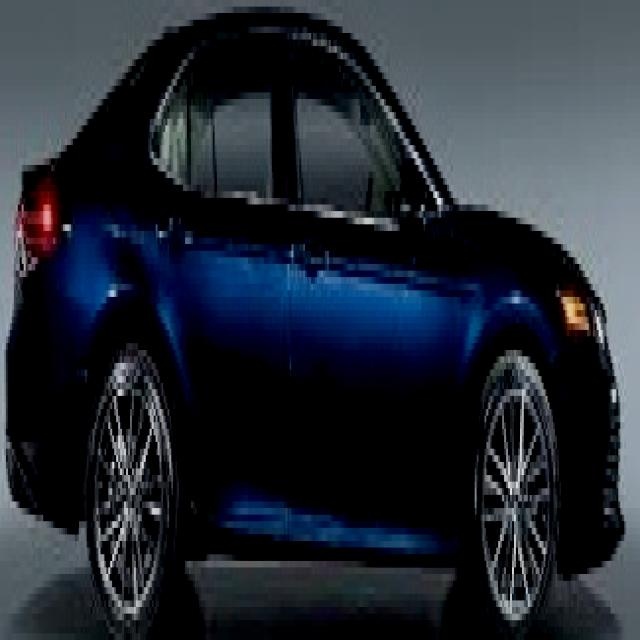blue: (6, 3, 626, 637)
